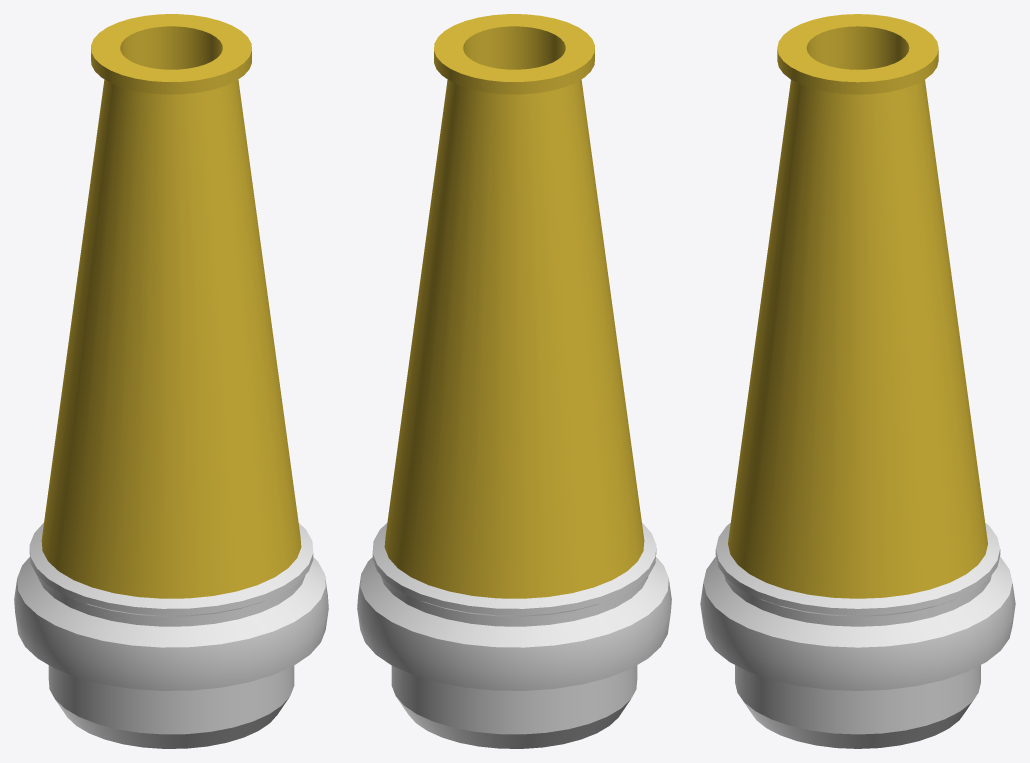
Rendered from manguera.fbx.
The picture shows the model from 3 angles, left to right: view 1: azimuth 30°, elevation 25°; view 2: azimuth 150°, elevation 25°; view 3: azimuth 270°, elevation 25°; orthographic projection.
Parts seen in each view (by area): view 1: Cylinder; view 2: Cylinder; view 3: Cylinder.
Boxes of the visible parts, box(x1,y1,x2,y2) form: Cylinder: box(14, 14, 328, 748); Cylinder: box(357, 14, 671, 748); Cylinder: box(700, 14, 1015, 748).
Size of the model in its own units: 242 by 555 by 242.
